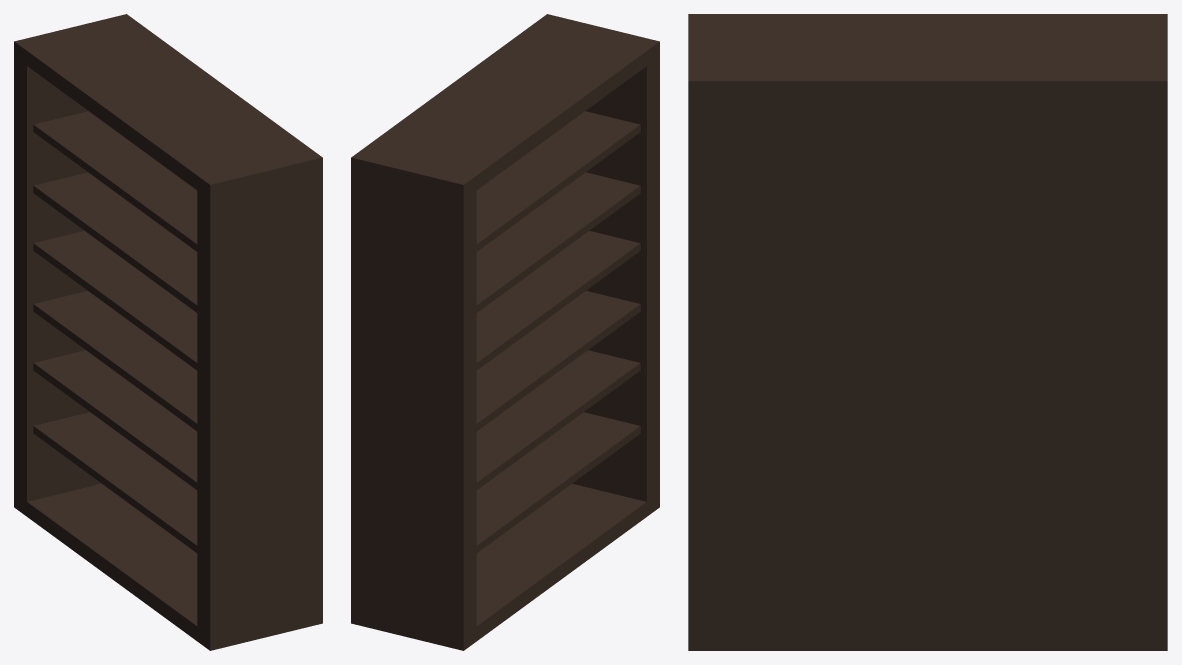
The model's file is empty dresser.fbx.
The picture shows the model from 3 angles, left to right: view 1: azimuth 30°, elevation 25°; view 2: azimuth 150°, elevation 25°; view 3: azimuth 270°, elevation 25°; orthographic projection. The views are drawn at different scales.
Visible parts, largest first — view 1: pasted__pasted__pasted__pCube2; view 2: pasted__pasted__pasted__pCube2; view 3: pasted__pasted__pasted__pCube2.
Part boxes in pixels (x1,y1,x2,y2): pasted__pasted__pasted__pCube2: (14,14,322,650); pasted__pasted__pasted__pCube2: (351,14,659,650); pasted__pasted__pasted__pCube2: (688,14,1167,650).
Size of the model in its own units: 1 by 3.96 by 3.02.
